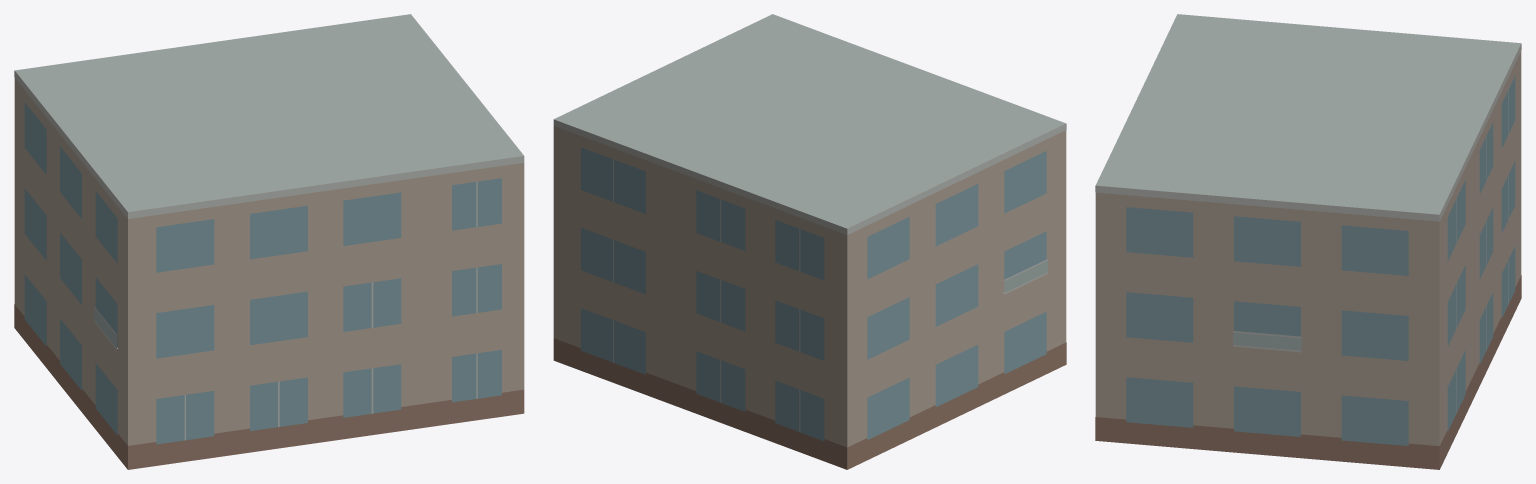
File: survey-upis-32811379.glb
The picture shows the model from 3 angles, left to right: view 1: azimuth 30°, elevation 25°; view 2: azimuth 150°, elevation 25°; view 3: azimuth 270°, elevation 25°; orthographic projection. The views are drawn at different scales.
Visible parts, largest first — view 1: survey-upis-32811379.tmp; view 2: survey-upis-32811379.tmp; view 3: survey-upis-32811379.tmp.
Part boxes in pixels (bbox=[...]): survey-upis-32811379.tmp: bbox=[14, 14, 524, 469]; survey-upis-32811379.tmp: bbox=[553, 14, 1066, 469]; survey-upis-32811379.tmp: bbox=[1095, 14, 1521, 469].
Bounding box in the file's own units: 15.45 × 9.15 × 13.86.
